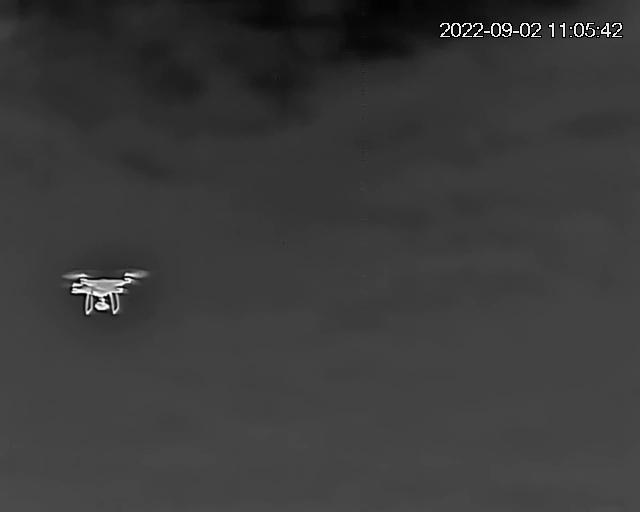DJI-Phantom: (64, 270, 147, 317)
